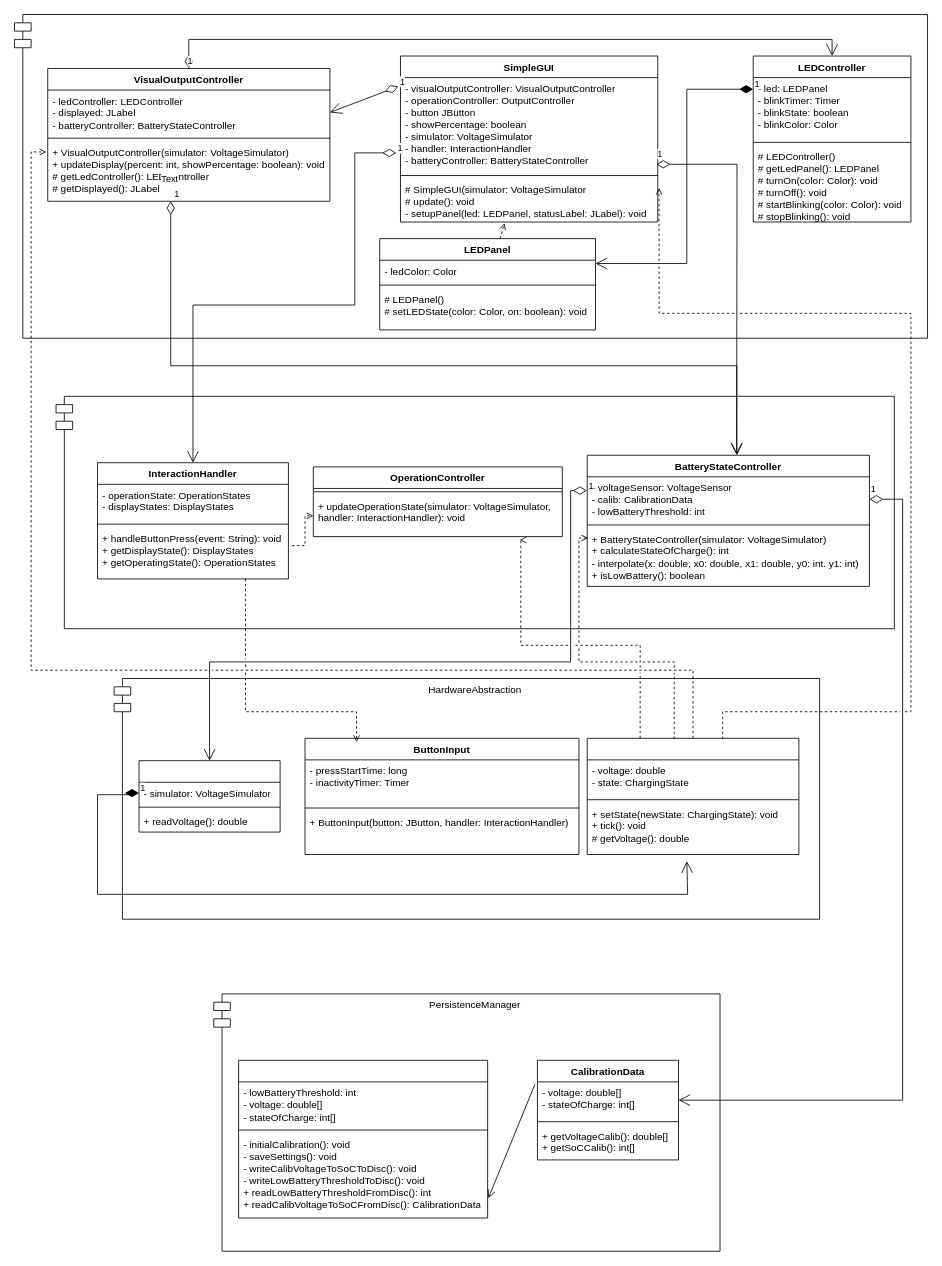
Image size: 942x1266. Some labels were removed from this diagram. The shapes that lost their labels are listed below. From the top down, each one's box as (x1, y1, x2, y2) in pixels, then its label:
(14, 14, 928, 338): UserInterface
(55, 395, 894, 629): BatteryLogic
(138, 760, 280, 832): VoltageSensor
(586, 737, 799, 854): VoltageSimulator
(238, 1059, 488, 1218): SettingsStorage
